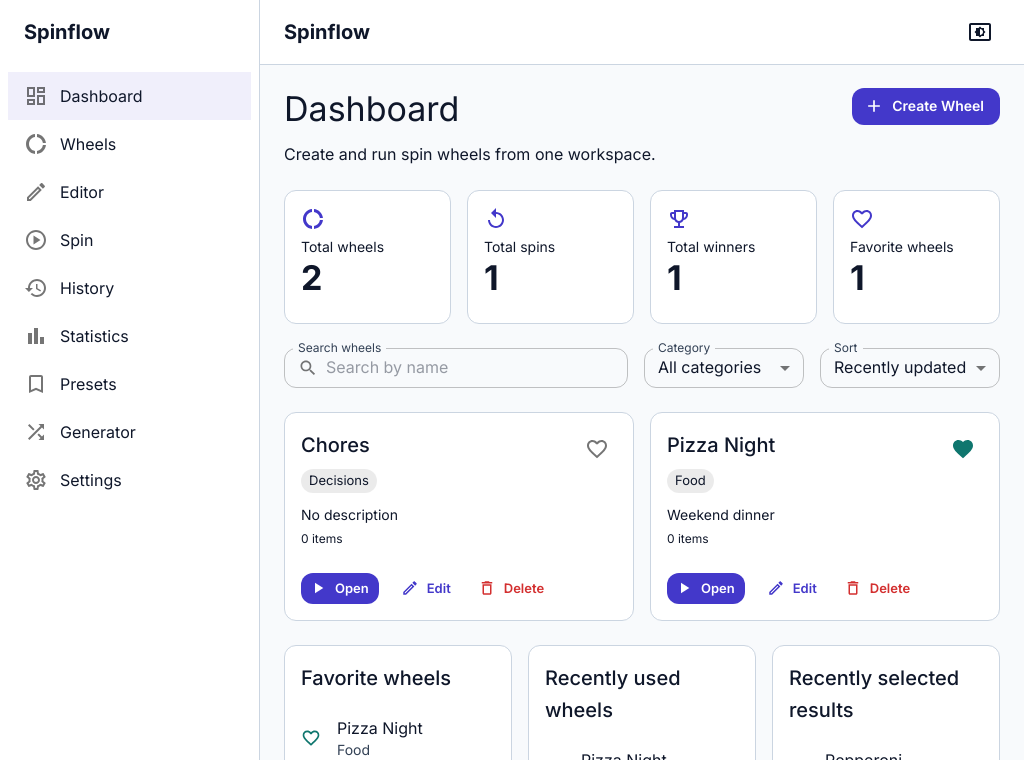
it: DashboardScreen › opens a favorite wheel from the side card
The image size is (1024, 760).
Click the button with aria-label "Open favorite Pizza Night" at x=362, y=738, box [301,718,423,758]
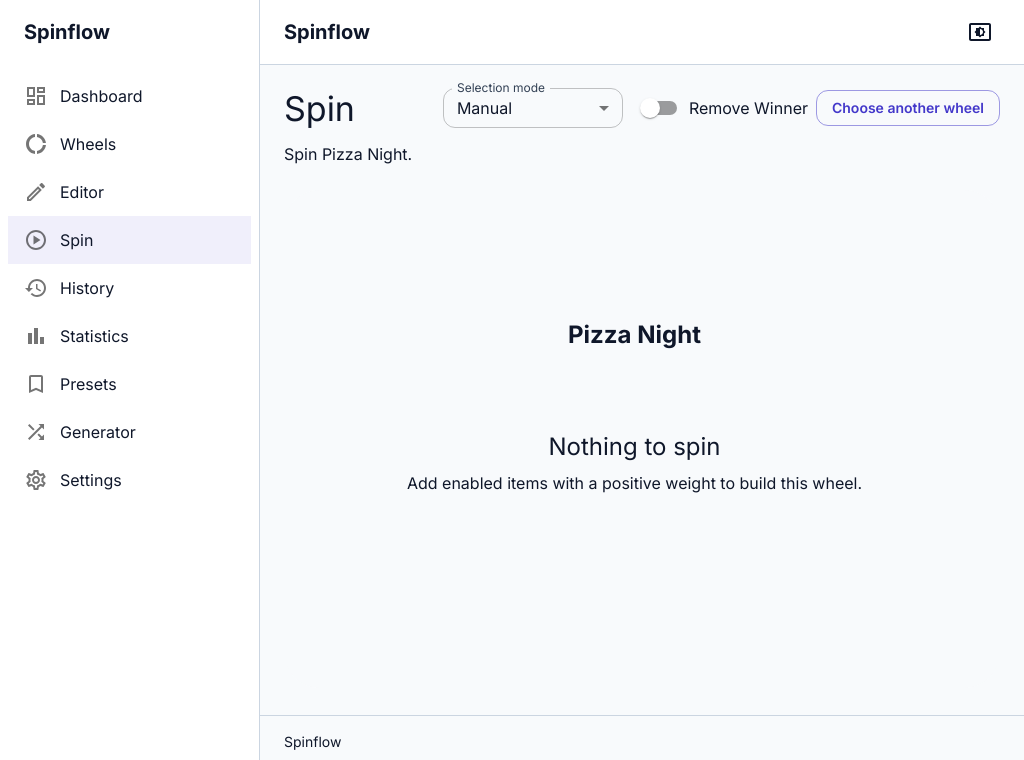
Result: the heading "Spin" is shown at [284,88,355,129]
